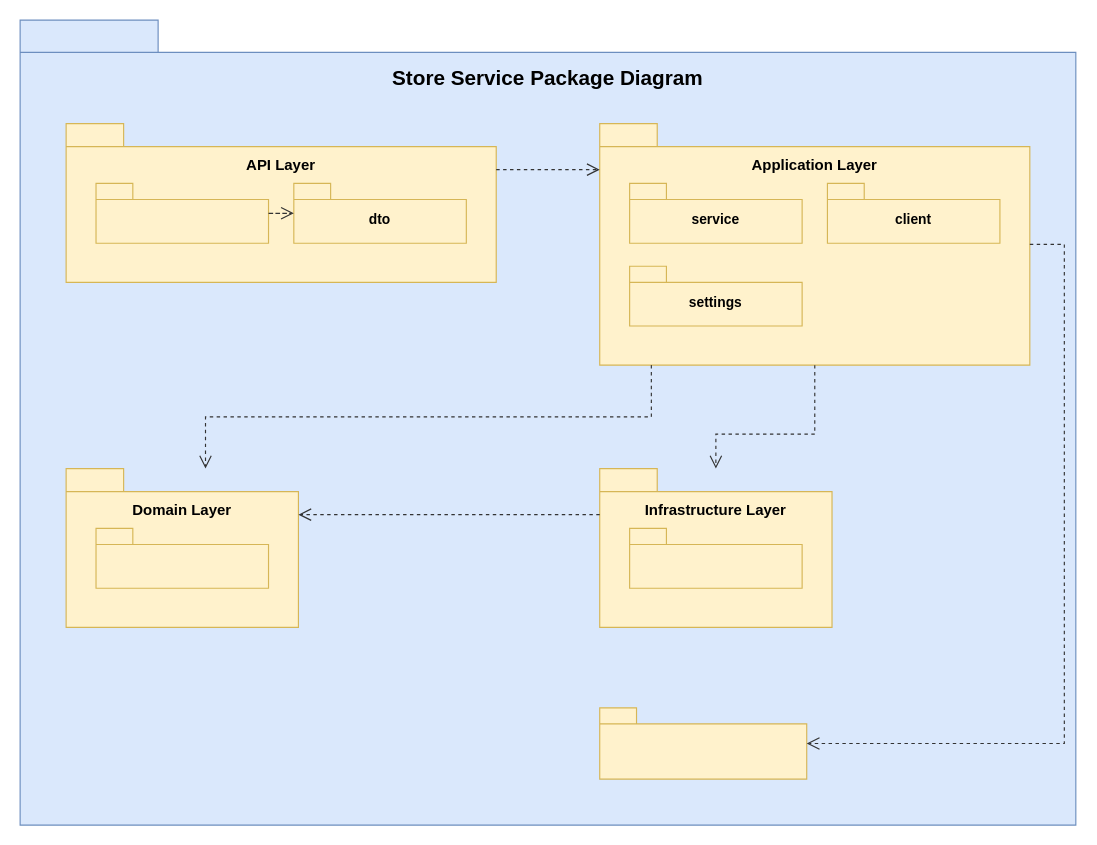
The diagram is 1097 pixels wide and 845 high, and some of its shapes have lost their labels. Each missing label, with the centre of its shape:
common-lib: [703,743]
controller: [182,212]
model: [182,557]
repository: [715,557]
